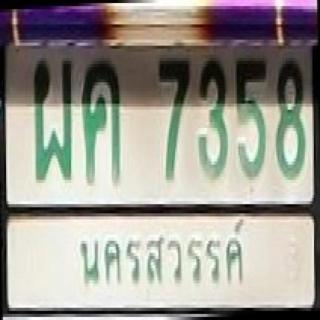A04: (78, 50, 127, 191)
A28: (27, 50, 78, 191)
N03: (195, 54, 231, 183)
N05: (232, 55, 274, 187)
N07: (153, 53, 194, 188)
N08: (273, 51, 312, 187)
P31: (68, 217, 252, 295)
